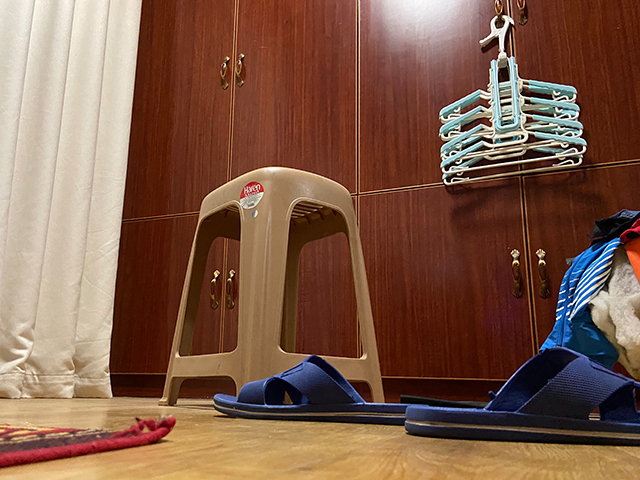cabinet: (109, 1, 640, 398)
carpet: (1, 415, 177, 468)
curtain: (1, 1, 142, 400)
slippers: (403, 343, 640, 447), (209, 353, 411, 421)
stool: (157, 165, 386, 406)
